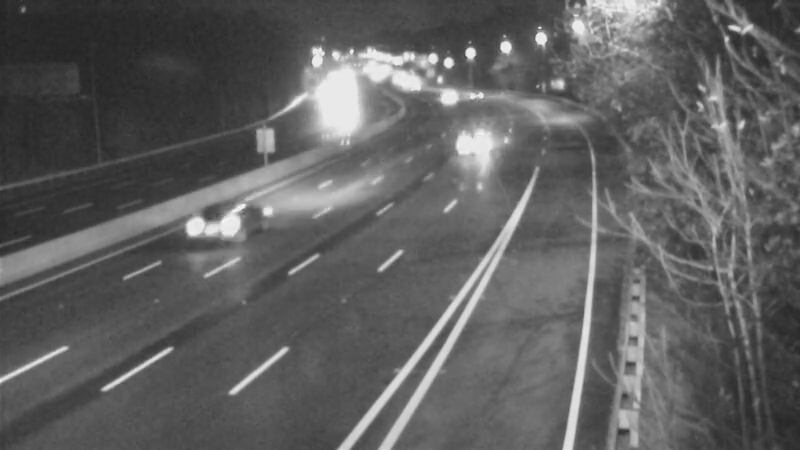vehicle: (155, 187, 235, 267), (422, 65, 472, 115), (448, 66, 498, 116), (447, 106, 497, 156)
